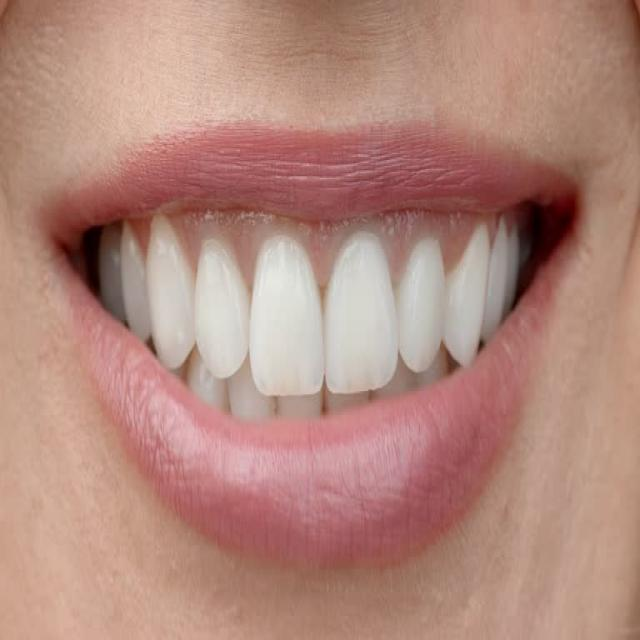tooth: (312, 219, 402, 390), (254, 253, 324, 393), (145, 228, 197, 360), (195, 255, 249, 381), (447, 252, 485, 351), (404, 254, 445, 342), (116, 249, 149, 339), (226, 373, 266, 422), (192, 360, 226, 409), (93, 238, 119, 298), (276, 391, 319, 427), (490, 244, 508, 317), (327, 385, 360, 418), (513, 233, 519, 305)
